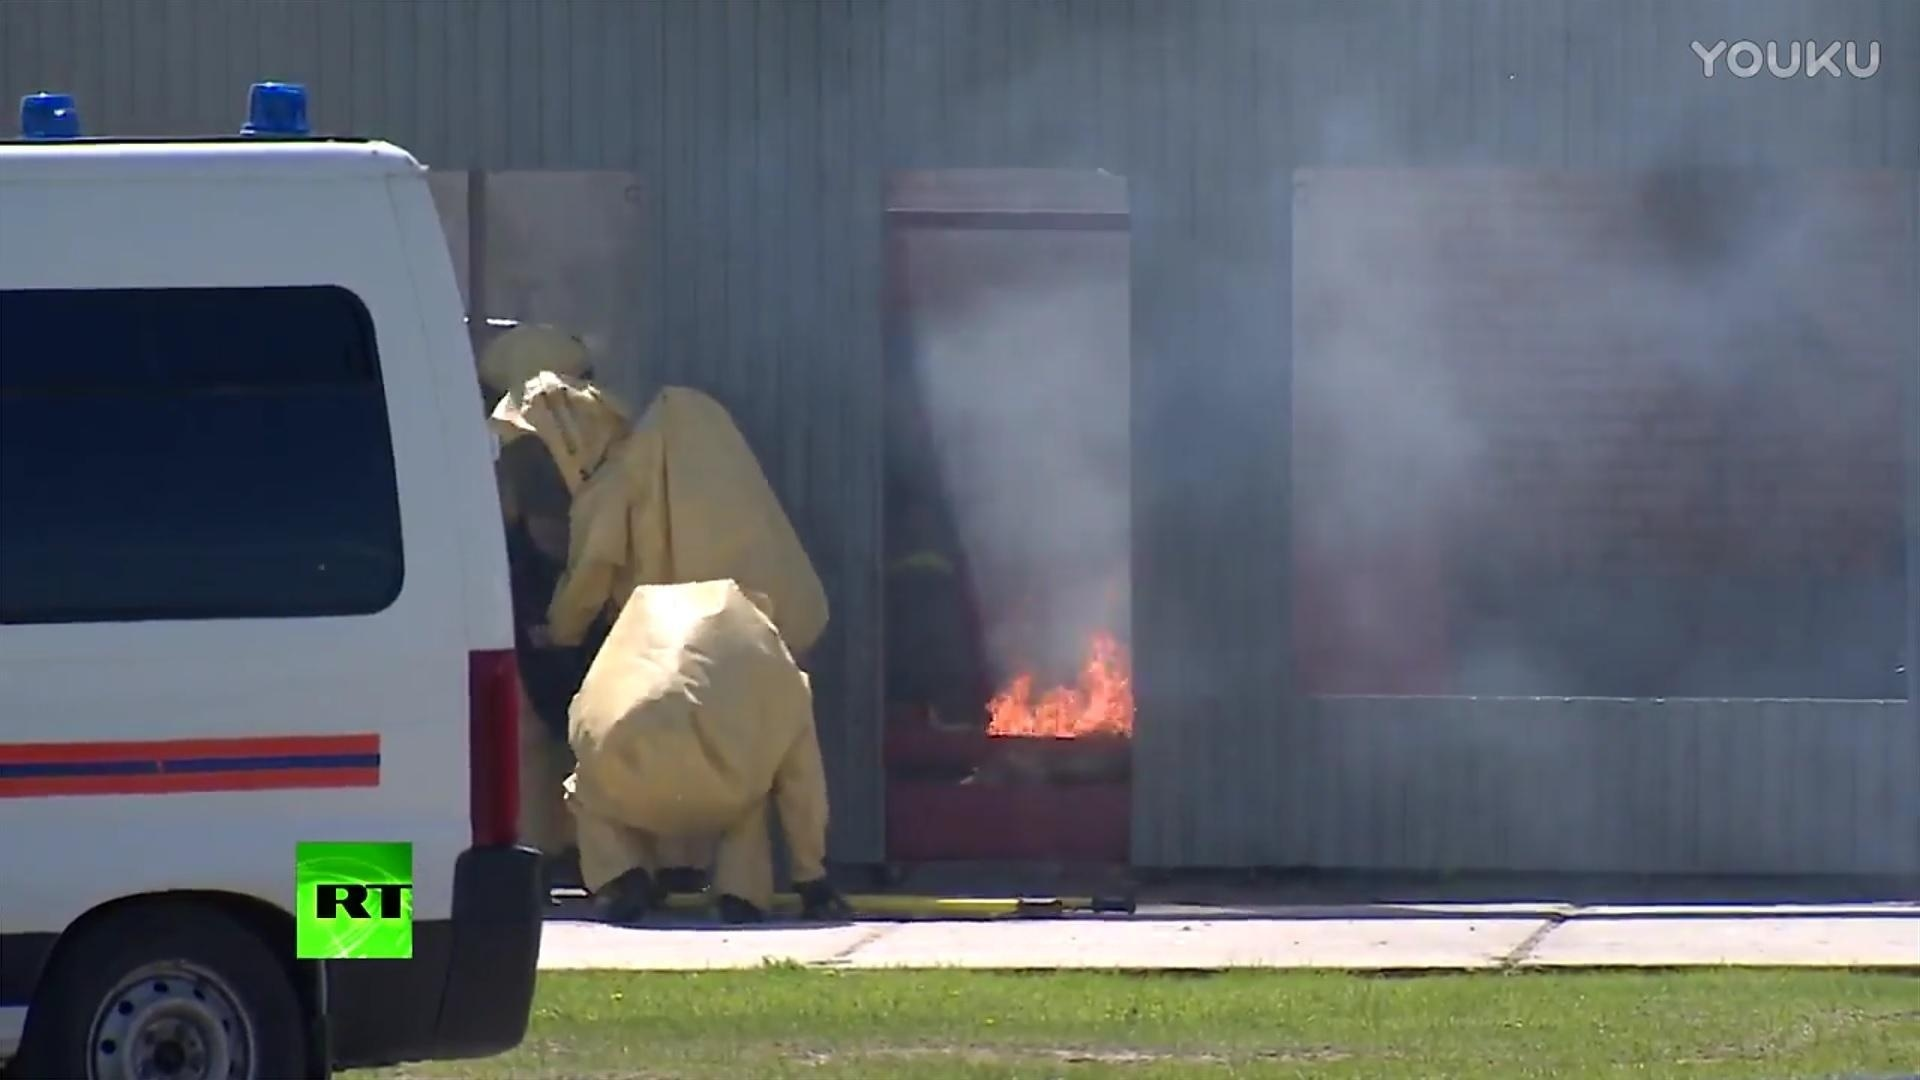fire: (980, 620, 1134, 738)
